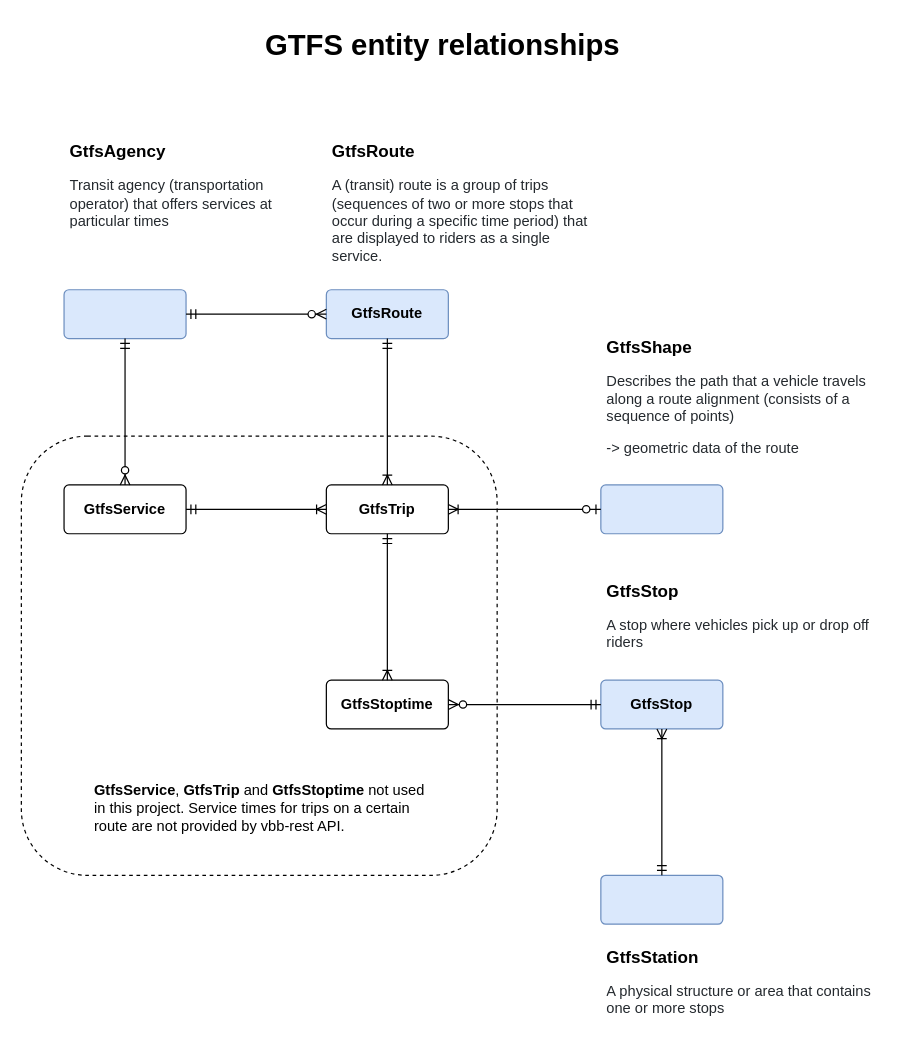
Image size: 897x1042. Some labels were removed from this diagram. Each missing label, with the centre of its shape:
"GtfsAgency" belongs at (124,314).
"GtfsShape" belongs at (661,509).
"GtfsStation" belongs at (661,899).
